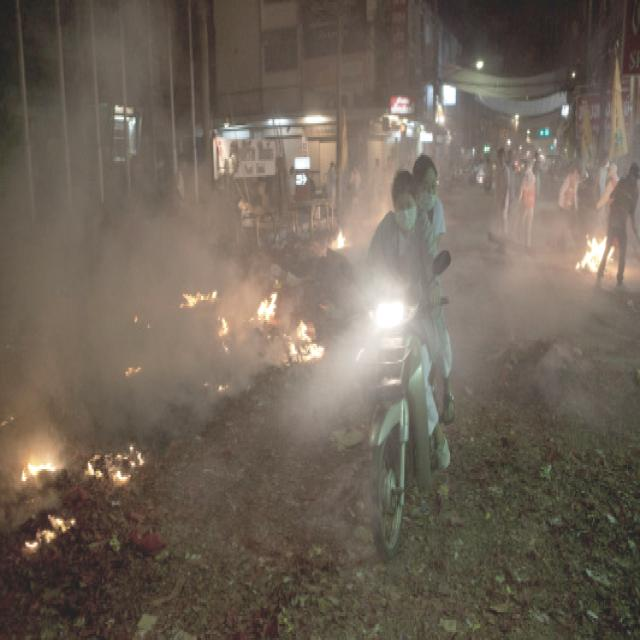Motorbike: (353, 260, 455, 520)
